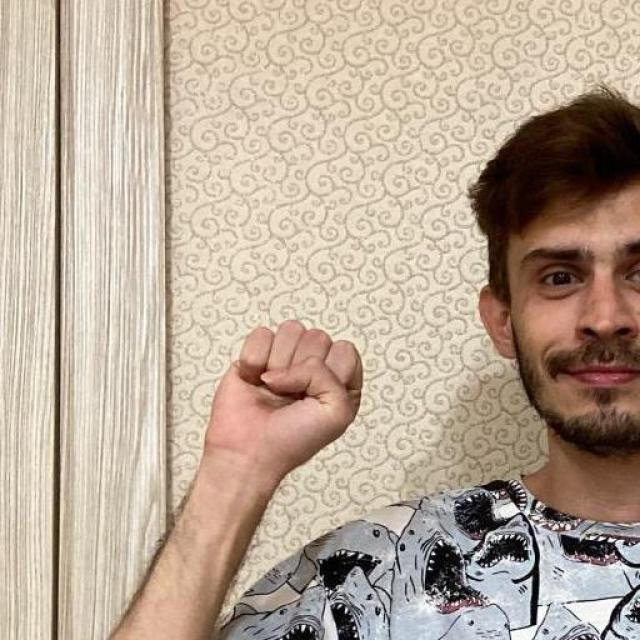hand: (200, 317, 364, 485)
